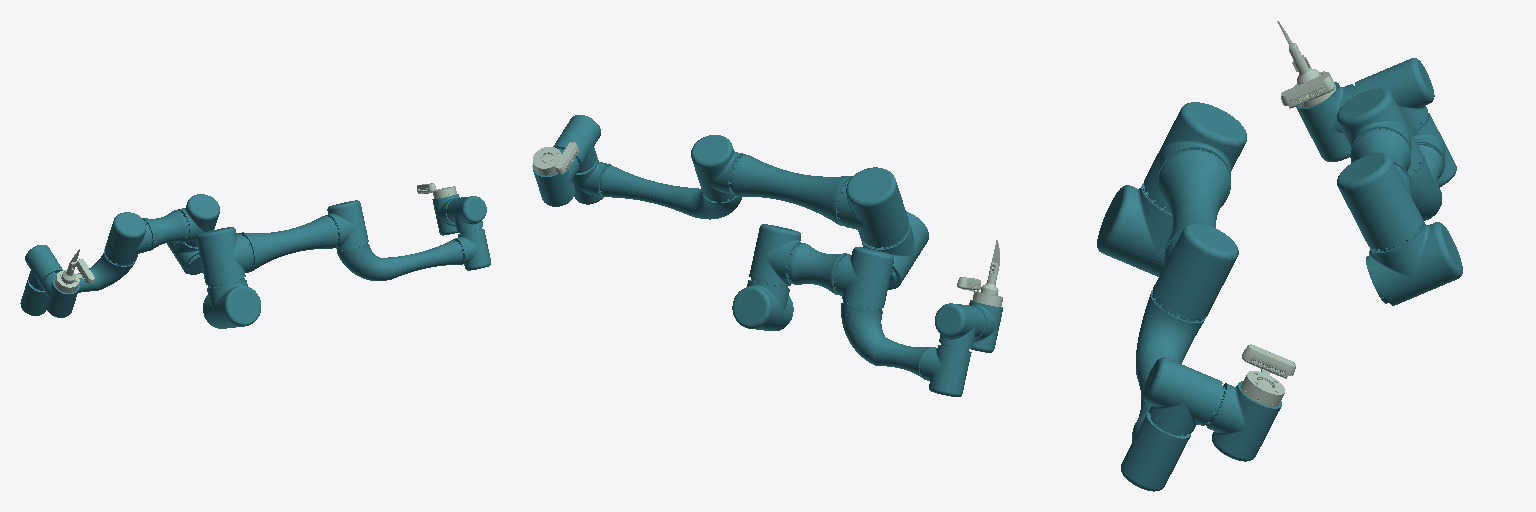
--- Facts derived from the render (not from the file) ---
The picture shows the robot from 3 angles, left to right: view 1: azimuth 30°, elevation 25°; view 2: azimuth 150°, elevation 25°; view 3: azimuth 270°, elevation 25°; orthographic projection.
Robot: eod_robot_description — 23 links, 22 joints (14 revolute, 6 continuous, 2 fixed); root link base_link; default pose: all joints at 0.
Visible links, largest first — view 1: Arm_R2_link, Arm_L2_link, Arm_R3_link, Arm_R1_link, Arm_L3_link, Arm_R4_link, Arm_L4_link, Arm_L5_link, Arm_L1_link, Arm_R5_link; view 2: Arm_R2_link, Arm_L2_link, Arm_L3_link, Arm_R3_link, Arm_L1_link, Arm_L4_link, Arm_R1_link, Arm_R4_link, Arm_R5_link, Arm_R6_link, Arm_L5_link, Arm_L6_link; view 3: Arm_R2_link, Arm_L2_link, Arm_R3_link, Arm_L1_link, Arm_R1_link, Arm_R4_link, Arm_R5_link, Arm_L3_link, Arm_L4_link, Arm_L5_link, Arm_R6_link, Arm_L6_link_add (+1 smaller).
Link boxes in pixels (x1=…): Arm_R2_link: x1=196, y1=200, x2=368, y2=286; Arm_L2_link: x1=105, y1=194, x2=219, y2=264; Arm_R3_link: x1=337, y1=229, x2=490, y2=280; Arm_R1_link: x1=203, y1=278, x2=260, y2=328; Arm_L3_link: x1=20, y1=249, x2=136, y2=315; Arm_R4_link: x1=447, y1=196, x2=486, y2=233; Arm_L4_link: x1=25, y1=245, x2=62, y2=290; Arm_L5_link: x1=42, y1=272, x2=79, y2=317; Arm_L1_link: x1=167, y1=242, x2=202, y2=274; Arm_R5_link: x1=432, y1=194, x2=459, y2=235; Arm_R2_link: x1=691, y1=135, x2=908, y2=246; Arm_L2_link: x1=749, y1=224, x2=893, y2=307; Arm_L3_link: x1=841, y1=300, x2=971, y2=396; Arm_R3_link: x1=572, y1=157, x2=741, y2=219; Arm_L1_link: x1=732, y1=278, x2=793, y2=330; Arm_L4_link: x1=935, y1=303, x2=984, y2=351; Arm_R1_link: x1=861, y1=211, x2=928, y2=289; Arm_R4_link: x1=553, y1=115, x2=600, y2=172; Arm_R5_link: x1=532, y1=148, x2=579, y2=206; Arm_R6_link: x1=533, y1=142, x2=578, y2=175; Arm_L5_link: x1=969, y1=300, x2=1002, y2=352; Arm_L6_link: x1=973, y1=240, x2=1002, y2=306; Arm_R2_link: x1=1144, y1=102, x2=1246, y2=318; Arm_L2_link: x1=1337, y1=88, x2=1422, y2=248; Arm_R3_link: x1=1121, y1=290, x2=1205, y2=491; Arm_L1_link: x1=1366, y1=221, x2=1462, y2=305; Arm_R1_link: x1=1097, y1=183, x2=1172, y2=276; Arm_R4_link: x1=1143, y1=357, x2=1222, y2=435; Arm_R5_link: x1=1206, y1=381, x2=1281, y2=461; Arm_L3_link: x1=1408, y1=113, x2=1456, y2=220; Arm_L4_link: x1=1355, y1=58, x2=1434, y2=131; Arm_L5_link: x1=1296, y1=82, x2=1356, y2=161; Arm_R6_link: x1=1241, y1=344, x2=1295, y2=406; Arm_L6_link_add: x1=1281, y1=71, x2=1335, y2=108.
Size in the robot's own frame: 1.29 by 0.5881 by 0.3285 metres.
Meshes: 18 distinct files referenced, 13 mesh visuals loaded (12 binary STL); not drawn: 10 (reference not matched to a file when rendering).

robot.urdf — eod_robot_description:
<?xml version="1.0" encoding="utf-8"?>
<!-- This URDF was automatically created by SolidWorks to URDF Exporter! Originally created by Stephen Brawner ([email redacted]) 
     Commit Version: 1.5.1-0-g916b5db  Build Version: 1.5.7152.31018
     For more information, please see http://wiki.ros.org/sw_urdf_exporter -->
<robot
  name="eod_robot_description">

  <link
    name="base_link">
    <inertial>
      <origin
        xyz="-0.17885 0.0017998 -0.1738"
        rpy="0 0 0" />
      <mass
        value="107.28" />
      <inertia
        ixx="1.52"
        ixy="0.001111"
        ixz="0.079409"
        iyy="2.3271"
        iyz="-0.00027816"
        izz="3.0127" />
    </inertial>
    <visual>
      <origin
        xyz="0 0 0"
        rpy="0 0 0" />
      <geometry>
        <mesh
          filename="package://eod_robot_description/meshes/base_link.STL" />
      </geometry>
      <material
        name="">
        <color
          rgba="0.0078 0.4686 0.2294 1" />
      </material>
    </visual>
    <collision>
      <origin
        xyz="0 0 0"
        rpy="0 0 0" />
      <geometry>
        <mesh
          filename="package://eod_robot_description/meshes/base_link.STL" />
      </geometry>
    </collision>
  </link>

  <link
    name="Arm_R1_link">
    <inertial>
      <origin
        xyz="-7.5166E-05 0.0061693 0.0029213"
        rpy="0 0 0" />
      <mass
        value="1.942" />
      <inertia
        ixx="0.0057811"
        ixy="-1.8608E-06"
        ixz="1.4367E-07"
        iyy="0.0054342"
        iyz="3.5004E-05"
        izz="0.0038786" />
    </inertial>
    <visual>
      <origin
        xyz="0 0 0"
        rpy="0 0 0" />
      <geometry>
        <mesh
          filename="package://eod_robot_description/meshes/Arm_R1_link.STL" />
      </geometry>
      <material
        name="">
        <color
          rgba="0.2706 0.5373 0.5804 1" />
      </material>
    </visual>
    <collision>
      <origin
        xyz="0 0 0"
        rpy="0 0 0" />
      <geometry>
        <mesh
          filename="package://eod_robot_description/meshes/Arm_R1_link.STL" />
      </geometry>
    </collision>
  </link>

  <joint
    name="Arm_R1_joint"
    type="revolute">
    <origin
      xyz="-0.0499 -0.21024 -0.056576"
      rpy="1.1342 0 0" />
    <parent
      link="base_link" />
    <child
      link="Arm_R1_link" />
    <axis
      xyz="0 0 1" />
    <limit
      lower="-6.28"
      upper="6.28"
      effort="0"
      velocity="0" />
    <safety_controller
      soft_upper="3.14"
      soft_lower="-3.14"
      k_velocity="0" />
  </joint>
  <link
    name="Arm_R2_link">
    <inertial>
      <origin
        xyz="2.6419E-05 0.0018174 0.17875"
        rpy="0 0 0" />
      <mass
        value="5.5188" />
      <inertia
        ixx="0.032467"
        ixy="-1.7285E-07"
        ixz="1.9497E-06"
        iyy="0.029769"
        iyz="1.3101E-05"
        izz="0.01125" />
    </inertial>
    <visual>
      <origin
        xyz="0 0 0"
        rpy="0 0 0" />
      <geometry>
        <mesh
          filename="package://eod_robot_description/meshes/Arm_R2_link.STL" />
      </geometry>
      <material
        name="">
        <color
          rgba="0.2706 0.5373 0.5804 1" />
      </material>
    </visual>
    <collision>
      <origin
        xyz="0 0 0"
        rpy="0 0 0" />
      <geometry>
        <mesh
          filename="package://eod_robot_description/meshes/Arm_R2_link.STL" />
      </geometry>
    </collision>
  </link>

  <joint
    name="Arm_R2_joint"
    type="revolute">
    <origin
      xyz="0 0.145 0.0001"
      rpy="0 1.5708 0" />
    <parent
      link="Arm_R1_link" />
    <child
      link="Arm_R2_link" />
    <axis
      xyz="0 1 0" />
    <limit
      lower="-6.28"
      upper="6.28"
      effort="0"
      velocity="0" />
  </joint>
  <link
    name="Arm_R3_link">
    <inertial>
      <origin
        xyz="-6.6015E-07 0.0099112 0.19645"
        rpy="0 0 0" />
      <mass
        value="2.3067" />
      <inertia
        ixx="0.024366"
        ixy="-7.0932E-08"
        ixz="-9.8729E-08"
        iyy="0.023353"
        iyz="0.0029573"
        izz="0.0031722" />
    </inertial>
    <visual>
      <origin
        xyz="0 0 0"
        rpy="0 0 0" />
      <geometry>
        <mesh
          filename="package://eod_robot_description/meshes/Arm_R3_link.STL" />
      </geometry>
      <material
        name="">
        <color
          rgba="0.2706 0.5373 0.5804 1" />
      </material>
    </visual>
    <collision>
      <origin
        xyz="0 0 0"
        rpy="0 0 0" />
      <geometry>
        <mesh
          filename="package://eod_robot_description/meshes/Arm_R3_link.STL" />
      </geometry>
    </collision>
  </link>

  <joint
    name="Arm_R3_joint"
    type="revolute">
    <origin
      xyz="0 -0.144 0.42469"
      rpy="0 0 0" />
    <parent
      link="Arm_R2_link" />
    <child
      link="Arm_R3_link" />
    <axis
      xyz="0 1 0" />
    <limit
      lower="-6.28"
      upper="6.28"
      effort="0"
      velocity="0" />
  </joint>
  <link
    name="Arm_R4_link">
    <inertial>
      <origin
        xyz="1.5867E-07 0.10315 -0.002932"
        rpy="0 0 0" />
      <mass
        value="0.66592" />
      <inertia
        ixx="0.0010283"
        ixy="2.5683E-09"
        ixz="3.2476E-09"
        iyy="0.00090972"
        iyz="1.3372E-05"
        izz="0.00064819" />
    </inertial>
    <visual>
      <origin
        xyz="0 0 0"
        rpy="0 0 0" />
      <geometry>
        <mesh
          filename="package://eod_robot_description/meshes/Arm_R4_link.STL" />
      </geometry>
      <material
        name="">
        <color
          rgba="0.2706 0.5373 0.5804 1" />
      </material>
    </visual>
    <collision>
      <origin
        xyz="0 0 0"
        rpy="0 0 0" />
      <geometry>
        <mesh
          filename="package://eod_robot_description/meshes/Arm_R4_link.STL" />
      </geometry>
    </collision>
  </link>

  <joint
    name="Arm_R4_joint"
    type="revolute">
    <origin
      xyz="0 0 0.38445"
      rpy="0 1.5708 0" />
    <parent
      link="Arm_R3_link" />
    <child
      link="Arm_R4_link" />
    <axis
      xyz="0 1 0" />
    <limit
      lower="-6.28"
      upper="6.28"
      effort="0"
      velocity="0" />
  </joint>
  <link
    name="Arm_R5_link">
    <inertial>
      <origin
        xyz="-1.3433E-07 -0.0029321 0.10325"
        rpy="0 0 0" />
      <mass
        value="0.66592" />
      <inertia
        ixx="0.0010283"
        ixy="-1.8758E-09"
        ixz="-2.2545E-09"
        iyy="0.00064819"
        iyz="1.3371E-05"
        izz="0.00090972" />
    </inertial>
    <visual>
      <origin
        xyz="0 0 0"
        rpy="0 0 0" />
      <geometry>
        <mesh
          filename="package://eod_robot_description/meshes/Arm_R5_link.STL" />
      </geometry>
      <material
        name="">
        <color
          rgba="0.2706 0.5373 0.5804 1" />
      </material>
    </visual>
    <collision>
      <origin
        xyz="0 0 0"
        rpy="0 0 0" />
      <geometry>
        <mesh
          filename="package://eod_robot_description/meshes/Arm_R5_link.STL" />
      </geometry>
    </collision>
  </link>

  <joint
    name="Arm_R5_joint"
    type="revolute">
    <origin
      xyz="0 0.11 0"
      rpy="0 0 0" />
    <parent
      link="Arm_R4_link" />
    <child
      link="Arm_R5_link" />
    <axis
      xyz="0 0 1" />
    <limit
      lower="-6.28"
      upper="6.28"
      effort="0"
      velocity="0" />
  </joint>
  <link
    name="Arm_R6_link">
    <inertial>
      <origin
        xyz="-0.00033659 0.063349 -0.0018397"
        rpy="0 0 0" />
      <mass
        value="0.040885" />
      <inertia
        ixx="1.7434E-05"
        ixy="-3.1147E-13"
        ixz="-5.083E-07"
        iyy="3.0506E-05"
        iyz="-5.7966E-13"
        izz="1.4748E-05" />
    </inertial>
    <visual>
      <origin
        xyz="0 0 0"
        rpy="0 0 0" />
      <geometry>
        <mesh
          filename="package://eod_robot_description/meshes/Arm_R6_link.STL" />
      </geometry>
      <material
        name="">
        <color
          rgba="0.6980 0.7843 0.7333 1" />
      </material>
    </visual>
    <collision>
      <origin
        xyz="0 0 0"
        rpy="0 0 0" />
      <geometry>
        <mesh
          filename="package://eod_robot_description/meshes/Arm_R6_link.STL" />
      </geometry>
    </collision>
  </link>

  <joint
    name="Arm_R6_joint"
    type="revolute">
    <origin
      xyz="0 0 0.1101"
      rpy="0 -1.74 0" />
    <parent
      link="Arm_R5_link" />
    <child
      link="Arm_R6_link" />
    <axis
      xyz="0 1 0" />
    <limit
      lower="-6.28"
      upper="6.28"
      effort="0"
      velocity="0" />
  </joint>

<!--   gripper     -->
<joint name="gripper_base_joint" type="fixed">
    <parent link="Arm_R6_link"/>
    <child link="gripper_base_link"/>
    <origin rpy="-1.570796325 0.2 0" xyz="0 0.07 0"/>
  </joint>
  <link name="gripper_base_link">
    <visual>
        <geometry>
          <mesh filename="package://eod_robot_description/meshes/base_link_gripper.STL"  scale = "0.001 0.001 0.001"/>
        </geometry>
      <material
        name="">
        <color
          rgba="0.6980 0.7843 0.7333 1" />
      </material>
    </visual>
    <collision>
        <geometry>
            <mesh filename="package://eod_robot_description/meshes/base_link_gripper.STL"  scale = "0.001 0.001 0.001"/>
        </geometry>
    </collision>
        <inertial>
          <mass value="0.83416" />
            <origin xyz="0.0 0.0 0.0" />
              <inertia ixx = "0.0013016" ixy = "-6.9374e-07" ixz = "5.9848e-07"
                       iyx = "0.000000" iyy = "0.00049972" iyz = "2.0244E-07"
                       izx = "0.000000" izy = "0.000000" izz = "0.001498" />
       </inertial>
    </link>

  <joint name="gripper_finger1_joint" type="revolute">
    <parent link="gripper_base_link"/>
    <child link="gripper_finger1_knuckle_link"/>
      <axis xyz="0 -1 0"/>
      <origin rpy="0.0 0.0 3.14" xyz="-0.016 0 0.10586"/>
      <limit lower="0.0" upper="0.6524" velocity="2.0" effort="1000"/>
  </joint>
  <joint name="gripper_finger2_joint" type="revolute">
    <parent link="gripper_base_link"/>
    <child link="gripper_finger2_knuckle_link"/>
    <axis xyz="0 -1 0"/>
    <origin rpy="0.0 0.0 0.0" xyz="0.016  0 0.10586 "/>
    <limit lower="-3.14" upper="3.14" velocity="100.0" effort="1000"/>
    <mimic joint="gripper_finger1_joint"/>
  </joint>
  <link name="gripper_finger1_knuckle_link">
            <visual>
                <geometry>
                    <mesh filename="package://eod_robot_description/meshes/crank_Link.STL"  scale = "0.001 0.001 0.001"/>
                </geometry>
                <material
                    name="">
                <color
                    rgba="0.6980 0.7843 0.7333 1" />
                </material>
            </visual>
            <collision>
                <geometry>
                    <mesh filename="package://eod_robot_description/meshes/crank_Link.STL"  scale = "0.001 0.001 0.001"/>
                </geometry>
            </collision>
            <inertial>
                <mass value="0.011111" />
                <origin xyz="0.0 0.0 0.0" />
                <inertia ixx = "3.88172e-06" ixy = "-2.29456e-13" ixz = "8.33e-07"
                         iyx = "0.000000" iyy = "1.92174e-06" iyz = "2.04435e-13"
                         izx = "0.000000" izy = "0.000000" izz = "4.32374e-06" />
            </inertial>
        </link>

  <link name="gripper_finger2_knuckle_link">
            <visual>
                <geometry>
                    <mesh filename="package://eod_robot_description/meshes/crank_Link.STL"  scale = "0.001 0.001 0.001"/>
                </geometry>
                <material
                    name="">
                <color
                    rgba="0.6980 0.7843 0.7333 1" />
                </material>
            </visual>
            <collision>
                <geometry>
                    <mesh filename="package://eod_robot_description/meshes/crank_Link.STL"  scale = "0.001 0.001 0.001"/>
                </geometry>
            </collision>
            <inertial>
                <mass value="0.011111" />
                <origin xyz="0.0 0.0 0.0" />
                <inertia ixx = "3.88172e-06" ixy = "-2.29456e-13" ixz = "8.33e-07"
                         iyx = "0.000000" iyy = "1.92174e-06" iyz = "2.04435e-13"
                         izx = "0.000000" izy = "0.000000" izz = "4.32374e-06" />
            </inertial>
        </link>

        <joint name="gripper_finger1_finger_joint" type="continuous">
            <parent link="gripper_finger1_knuckle_link"/>
            <child link="gripper_finger1_finger_link"/>
            <axis xyz="0 -1 0"/>
            <origin xyz="0.0292080077784 0.0 -0.0227132622407" rpy="0 0 0" />
            <limit lower="-3.14" upper="3.14" velocity="100.0" effort="0.1"/>
            <mimic joint="gripper_finger1_joint" multiplier="0.4563942" offset="0"/>
        </joint>

        <joint name="gripper_finger2_finger_joint" type="continuous">
            <parent link="gripper_finger2_knuckle_link"/>
            <child link="gripper_finger2_finger_link"/>
            <axis xyz="0 -1 0"/>
            <origin xyz="0.0292080077784 0.0 -0.0227132622407" rpy="0 0 0" />
            <limit lower="-3.14" upper="3.14" velocity="100.0" effort="0.1"/>
            <mimic joint="gripper_finger1_joint" multiplier="0.4563942" offset="0"/>
        </joint>
  <link name="gripper_finger1_finger_link">
            <visual>
                <geometry>
                    <mesh filename="package://eod_robot_description/meshes/rod_Link.STL"  scale = "0.001 0.001 0.001"/>
                </geometry>
                <material
                    name="">
                <color
                    rgba="0.6980 0.7843 0.7333 1" />
                </material>
            </visual>
            <collision>
                <geometry>
                    <mesh filename="package://eod_robot_description/meshes/rod_Link.STL"  scale = "0.001 0.001 0.001"/>
                </geometry>
            </collision>
            <inertial>
                <mass value="0.0222871" />
                <origin xyz="0.0 0.0 0.0" />
                <inertia ixx = "8.72836e-06" ixy = "7.0843e-15" ixz = "-2.18833e-06"
                         iyx = "-0.000002" iyy = "7.26157e-06" iyz = "7.6579e-15"
                         izx = "0.000000" izy = "0.000000" izz = "3.3425e-06" />
            </inertial>
        </link>

  <link name="gripper_finger2_finger_link">
          <visual>
                <geometry>
                    <mesh filename="package://eod_robot_description/meshes/rod_Link.STL"  scale = "0.001 0.001 0.001"/>
                </geometry>
                <material
                    name="">
                <color
                    rgba="0.6980 0.7843 0.7333 1" />
                </material>
            </visual>
            <collision>
                <geometry>
                    <mesh filename="package://eod_robot_description/meshes/rod_Link.STL"  scale = "0.001 0.001 0.001"/>
                </geometry>
            </collision>
            <inertial>
                <mass value="0.0222871" />
                <origin xyz="0.0 0.0 0.0" />
                <inertia ixx = "8.72836e-06" ixy = "7.0843e-15" ixz = "-2.18833e-06"
                         iyx = "-0.000002" iyy = "7.26157e-06" iyz = "7.6579e-15"
                         izx = "0.000000" izy = "0.000000" izz = "3.3425e-06" />
            </inertial>
        </link>

  <joint name="gripper_finger1_inner_knuckle_joint" type="continuous">
    <parent link="gripper_base_link"/>
    <child link="gripper_finger1_inner_knuckle_link"/>
            <axis xyz="0 -1 0"/>
            <origin rpy="0.0 0.0 3.14" xyz="-0.016 0 0.10586"/>
            <limit lower="-3.14" upper="3.14" velocity="100.0" effort="0.1"/>
            <mimic joint="gripper_finger1_joint" multiplier="1.49462955"  offset="0"/>
 </joint>
  <joint name="gripper_finger2_inner_knuckle_joint" type="continuous">
    <parent link="gripper_base_link"/>
    <child link="gripper_finger2_inner_knuckle_link"/>
            <axis xyz="0 -1 0"/>
            <origin rpy="0.0 0.0 0.0" xyz="0.016 0 0.10586"/>
            <limit lower="-3.14" upper="3.14" velocity="100.0" effort="0.1"/>
            <mimic joint="gripper_finger1_joint" multiplier="1.49462955"  offset="0"/>
  </joint>
     <link name="gripper_finger1_inner_knuckle_link">
            <visual>
                <geometry>
                    <mesh filename="package://eod_robot_description/meshes/proximal_phalanx_Link.STL"  scale = "0.001 0.001 0.001"/>
                </geometry>
                <material
                    name="">
                <color
                    rgba="0.6980 0.7843 0.7333 1" />
                </material>
            </visual>
            <collision>
                <geometry>
                    <mesh filename="package://eod_robot_description/meshes/proximal_phalanx_Link.STL"  scale = "0.001 0.001 0.001"/>
                </geometry>
            </collision>
            <inertial>
                <mass value="0.0318004" />
                <origin xyz="0.0 0.0 0.0" />
                <inertia ixx = "1.39848e-05" ixy = "-9.54763e-15" ixz = "-5.01422e-06"
                         iyx = "0.000000" iyy = "1.04943e-05" iyz = "8.94585e-16"
                         izx = "0.000000" izy = "0.000000" izz = "1.36183e-05" />
            </inertial>
      </link>

<link name="gripper_finger2_inner_knuckle_link">
            <visual>
                <geometry>
                    <mesh filename="package://eod_robot_description/meshes/proximal_phalanx_Link.STL"  scale = "0.001 0.001 0.001"/>
                </geometry>
                <material
                    name="">
                <color
                    rgba="0.6980 0.7843 0.7333 1" />
                </material>
            </visual>
            <collision>
                <geometry>
                    <mesh filename="package://eod_robot_description/meshes/proximal_phalanx_Link.STL"  scale = "0.001 0.001 0.001"/>
                </geometry>
            </collision>
            <inertial>
                <mass value="0.0318004" />
                <origin xyz="0.0 0.0 0.0" />
                <inertia ixx = "1.39848e-05" ixy = "-9.54763e-15" ixz = "-5.01422e-06"
                         iyx = "0.000000" iyy = "1.04943e-05" iyz = "8.94585e-16"
                         izx = "0.000000" izy = "0.000000" izz = "1.36183e-05" />
            </inertial>
        </link>

<joint name="gripper_finger1_finger_tip_joint" type="continuous">
    <parent link="gripper_finger1_inner_knuckle_link"/>
    <child link="gripper_finger1_finger_tip_link"/>
            <axis xyz="0 1 0"/>
            <origin xyz="0.0394969463769 0.0 0.0382752038125 " rpy="0.0 0.0 0.0"/>
            <limit lower="-3.14" upper="3.14" velocity="100.0" effort="0.1"/>
            <mimic joint="gripper_finger1_joint" multiplier="1.49462955"/>
        </joint>
  <joint name="gripper_finger2_finger_tip_joint" type="continuous">
    <parent link="gripper_finger2_inner_knuckle_link"/>
    <child link="gripper_finger2_finger_tip_link"/>
            <axis xyz="0 1 0"/>
            <origin rpy="0.0 0.0 0.0" xyz="0.0394969463769  0.0 0.0382752038125  "/>
            <limit lower="-3.14" upper="3.14" velocity="100.0" effort="0.1"/>
            <mimic joint="gripper_finger1_joint" multiplier="1.49462955"/>
  </joint>
  <link name="gripper_finger1_finger_tip_link">
            <visual>
                <geometry>
                    <mesh filename="package://eod_robot_description/meshes/distal_phalanx_Link.STL"  scale = "0.001 0.001 0.001"/>
                </geometry>
               <material
                    name="">
                <color
                    rgba="0.6980 0.7843 0.7333 1" />
                </material>
            </visual>
            <collision>
                <geometry>
                    <mesh filename="package://eod_robot_description/meshes/distal_phalanx_Link.STL"  scale = "0.001 0.001 0.001"/>
                </geometry>
            </collision>
            <inertial>
                <mass value="0.0124305" />
                <origin xyz="0.0 0.0 0.0" />
                <inertia ixx = "2.84217e-06" ixy = "-2.48048e-15" ixz = "8.24539e-07"
                         iyx = "0.000000" iyy = "3.03961e-06" iyz = "2.16427e-13"
                         izx = "0.000000" izy = "0.000000" izz = "1.11815e-06" />
            </inertial>
        </link> 

  <link name="gripper_finger2_finger_tip_link">
            <visual>
                <geometry>
                    <mesh filename="package://eod_robot_description/meshes/distal_phalanx_Link.STL"  scale = "0.001 0.001 0.001"/>
                </geometry>
                <material
                    name="">
                <color
                    rgba="0.6980 0.7843 0.7333 1" />
                </material>
            </visual>
            <collision>
                <geometry>
                    <mesh filename="package://eod_robot_description/meshes/distal_phalanx_Link.STL"  scale = "0.001 0.001 0.001"/>
                </geometry>
            </collision>
            <inertial>
                <mass value="0.0124305" />
                <origin xyz="0.0 0.0 0.0" />
                <inertia ixx = "2.84217e-06" ixy = "-2.48048e-15" ixz = "8.24539e-07"
                         iyx = "0.000000" iyy = "3.03961e-06" iyz = "2.16427e-13"
                         izx = "0.000000" izy = "0.000000" izz = "1.11815e-06" />
            </inertial>
        </link> 

  <link
    name="Arm_L1_link">
    <inertial>
      <origin
        xyz="-2.4273E-09 0.0050107 0.003883"
        rpy="0 0 0" />
      <mass
        value="1.1218" />
      <inertia
        ixx="0.0023329"
        ixy="-2.1019E-09"
        ixz="-1.0212E-09"
        iyy="0.0021983"
        iyz="2.1828E-05"
        izz="0.0015374" />
    </inertial>
    <visual>
      <origin
        xyz="0 0 0"
        rpy="0 0 0" />
      <geometry>
        <mesh
          filename="package://eod_robot_description/meshes/Arm_L1_link.STL" />
      </geometry>
      <material
        name="">
        <color
          rgba="0.2706 0.5373 0.5804 1" />
      </material>
    </visual>
    <collision>
      <origin
        xyz="0 0 0"
        rpy="0 0 0" />
      <geometry>
        <mesh
          filename="package://eod_robot_description/meshes/Arm_L1_link.STL" />
      </geometry>
    </collision>
  </link>

  <joint
    name="Arm_L1_joint"
    type="revolute">
    <origin
      xyz="0.05 0.20099 -0.060889"
      rpy="1.1342 0 -3.1416" />
    <parent
      link="base_link" />
    <child
      link="Arm_L1_link" />
    <axis
      xyz="0 0 1" />
    <limit
      lower="-6.28"
      upper="6.28"
      effort="0"
      velocity="0" />
  </joint>
  <link
    name="Arm_L2_link">
    <inertial>
      <origin
        xyz="-1.0801E-07 0.0029806 0.12303"
        rpy="0 0 0" />
      <mass
        value="2.9228" />
      <inertia
        ixx="0.0062307"
        ixy="-8.6863E-09"
        ixz="5.4046E-09"
        iyy="0.0046397"
        iyz="9.0159E-10"
        izz="0.0053184" />
    </inertial>
    <visual>
      <origin
        xyz="0 0 0"
        rpy="0 0 0" />
      <geometry>
        <mesh
          filename="package://eod_robot_description/meshes/Arm_L2_link.STL" />
      </geometry>
      <material
        name="">
        <color
          rgba="0.2706 0.5373 0.5804 1" />
      </material>
    </visual>
    <collision>
      <origin
        xyz="0 0 0"
        rpy="0 0 0" />
      <geometry>
        <mesh
          filename="package://eod_robot_description/meshes/Arm_L2_link.STL" />
      </geometry>
    </collision>
  </link>

  <joint
    name="Arm_L2_joint"
    type="revolute">
    <origin
      xyz="0 0.1196 0"
      rpy="0 1.5708 0" />
    <parent
      link="Arm_L1_link" />
    <child
      link="Arm_L2_link" />
    <axis
      xyz="0 1 0" />
    <limit
      lower="-6.28"
      upper="6.28"
      effort="0"
      velocity="0" />
  </joint>
  <link
    name="Arm_L3_link">
    <inertial>
      <origin
        xyz="-1.2556E-07 0.011438 0.1421"
        rpy="0 0 0" />
      <mass
        value="1.5455" />
      <inertia
        ixx="0.0061651"
        ixy="-2.5101E-09"
        ixz="-9.3994E-09"
        iyy="0.0052977"
        iyz="0.0011604"
        izz="0.0023808" />
    </inertial>
    <visual>
      <origin
        xyz="0 0 0"
        rpy="0 0 0" />
      <geometry>
        <mesh
          filename="package://eod_robot_description/meshes/Arm_L3_link.STL" />
      </geometry>
      <material
        name="">
        <color
          rgba="0.2706 0.5373 0.5804 1" />
      </material>
    </visual>
    <collision>
      <origin
        xyz="0 0 0"
        rpy="0 0 0" />
      <geometry>
        <mesh
          filename="package://eod_robot_description/meshes/Arm_L3_link.STL" />
      </geometry>
    </collision>
  </link>

  <joint
    name="Arm_L3_joint"
    type="revolute">
    <origin
      xyz="0 -0.15098 0.24594"
      rpy="0 0 0" />
    <parent
      link="Arm_L2_link" />
    <child
      link="Arm_L3_link" />
    <axis
      xyz="0 1 0" />
    <limit
      lower="-6.28"
      upper="6.28"
      effort="0"
      velocity="0" />
  </joint>
  <link
    name="Arm_L4_link">
    <inertial>
      <origin
        xyz="1.5867E-07 0.10315 -0.002932"
        rpy="0 0 0" />
      <mass
        value="0.66592" />
      <inertia
        ixx="0.0010283"
        ixy="2.5683E-09"
        ixz="3.2476E-09"
        iyy="0.00090972"
        iyz="1.3372E-05"
        izz="0.00064819" />
    </inertial>
    <visual>
      <origin
        xyz="0 0 0"
        rpy="0 0 0" />
      <geometry>
        <mesh
          filename="package://eod_robot_description/meshes/Arm_L4_link.STL" />
      </geometry>
      <material
        name="">
        <color
          rgba="0.2706 0.5373 0.5804 1" />
      </material>
    </visual>
    <collision>
      <origin
        xyz="0 0 0"
        rpy="0 0 0" />
      <geometry>
        <mesh
          filename="package://eod_robot_description/meshes/Arm_L4_link.STL" />
      </geometry>
    </collision>
  </link>

  <joint
    name="Arm_L4_joint"
    type="revolute">
    <origin
      xyz="0 0 0.25532"
      rpy="0 1.5708 0" />
    <parent
      link="Arm_L3_link" />
    <child
      link="Arm_L4_link" />
    <axis
      xyz="0 1 0" />
    <limit
      lower="-6.28"
      upper="6.28"
      effort="0"
      velocity="0" />
  </joint>
  <link
    name="Arm_L5_link">
    <inertial>
      <origin
        xyz="-1.3433E-07 -0.0029321 0.10325"
        rpy="0 0 0" />
      <mass
        value="0.66592" />
      <inertia
        ixx="0.0010283"
        ixy="-1.8758E-09"
        ixz="-2.2545E-09"
        iyy="0.00064819"
        iyz="1.3371E-05"
        izz="0.00090972" />
    </inertial>
    <visual>
      <origin
        xyz="0 0 0"
        rpy="0 0 0" />
      <geometry>
        <mesh
          filename="package://eod_robot_description/meshes/Arm_L5_link.STL" />
      </geometry>
      <material
        name="">
        <color
          rgba="0.2706 0.5373 0.5804 1" />
      </material>
    </visual>
    <collision>
      <origin
        xyz="0 0 0"
        rpy="0 0 0" />
      <geometry>
        <mesh
          filename="package://eod_robot_description/meshes/Arm_L5_link.STL" />
      </geometry>
    </collision>
  </link>

  <joint
    name="Arm_L5_joint"
    type="revolute">
    <origin
      xyz="0 0.11 0"
      rpy="0 0 0" />
    <parent
      link="Arm_L4_link" />
    <child
      link="Arm_L5_link" />
    <axis
      xyz="0 0 1" />
    <limit
      lower="-6.28"
      upper="6.28"
      effort="0"
      velocity="0" />
  </joint>
  <link
    name="Arm_L6_link">
    <inertial>
      <origin
        xyz="0.00023435 0.092454 0.00011923"
        rpy="0 0 0" />
      <mass
        value="0.088885" />
      <inertia
        ixx="3.3913E-05"
        ixy="-5.1497E-07"
        ixz="-1.8352E-07"
        iyy="2.4791E-05"
        iyz="-2.6787E-07"
        izz="3.4453E-05" />
    </inertial>
    <visual>
      <origin
        xyz="0 0 0"
        rpy="0 0 0" />
      <geometry>
        <mesh
          filename="package://eod_robot_description/meshes/Arm_L6_link.STL" />
      </geometry>
      <material
        name="">
        <color
          rgba="0.6980 0.7843 0.7333 1" />
      </material>
    </visual>
    <collision>
      <origin
        xyz="0 0 0"
        rpy="0 0 0" />
      <geometry>
        <mesh
          filename="package://eod_robot_description/meshes/Arm_L6_link.STL" />
      </geometry>
    </collision>
  </link>

  <joint
    name="Arm_L6_joint"
    type="revolute">
    <origin
      xyz="0 0 0.1101"
      rpy="0 0.4363 0" />
    <parent
      link="Arm_L5_link" />
    <child
      link="Arm_L6_link" />
    <axis
      xyz="0 1 0" />
    <limit
      lower="-6.28"
      upper="6.28"
      effort="0"
      velocity="0" />
  </joint>
  <link
    name="Arm_L6_link_add">
    <inertial>
      <origin
        xyz="-0.00033659 0.063349 -0.0018397"
        rpy="0 0 0" />
      <mass
        value="0.040885" />
      <inertia
        ixx="1.7434E-05"
        ixy="-3.1147E-13"
        ixz="-5.083E-07"
        iyy="3.0506E-05"
        iyz="-5.7966E-13"
        izz="1.4748E-05" />
    </inertial>
    <visual>
      <origin
        xyz="0 0 0"
        rpy="0 0 0" />
      <geometry>
        <mesh
          filename="package://eod_robot_description/meshes/Arm_R6_link.STL" />
      </geometry>
      <material
        name="">
        <color
          rgba="0.6980 0.7843 0.7333 1" />
      </material>
    </visual>
    <collision>
      <origin
        xyz="0 0 0"
        rpy="0 0 0" />
      <geometry>
        <mesh
          filename="package://eod_robot_description/meshes/Arm_R6_link.STL" />
      </geometry>
    </collision>
  </link>
    <joint
    name="Arm_L6_joint_add"
    type="fixed">
    <origin
      xyz="0 0 0"
      rpy="0 -2.1991 0" />
    <parent
      link="Arm_L6_link" />
    <child
      link="Arm_L6_link_add" />
    <axis
      xyz="0 1 0" />
  </joint>


   <gazebo>
    <plugin filename="libgazebo_ros_control.so" name="gazebo_ros_control">
      <robotNamespace>/</robotNamespace>
    </plugin>
  </gazebo>

  <transmission name="Arm_R1_trans">
    <type>transmission_interface/SimpleTransmission</type>
    <joint name="Arm_R1_joint">
      <hardwareInterface>hardware_interface/PositionJointInterface</hardwareInterface>
    </joint>
    <actuator name="Arm_R1_motor">
      <mechanicalReduction>1</mechanicalReduction>
      <hardwareInterface>hardware_interface/PositionJointInterface</hardwareInterface>
    </actuator>
  </transmission>

  <transmission name="Arm_R2_trans">
    <type>transmission_interface/SimpleTransmission</type>
    <joint name="Arm_R2_joint">
      <hardwareInterface>hardware_interface/PositionJointInterface</hardwareInterface>
    </joint>
    <actuator name="Arm_R2_motor">
      <mechanicalReduction>1</mechanicalReduction>
      <hardwareInterface>hardware_interface/PositionJointInterface</hardwareInterface>
    </actuator>
  </transmission>

  <transmission name="Arm_R3_trans">
    <type>transmission_interface/SimpleTransmission</type>
    <joint name="Arm_R3_joint">
      <hardwareInterface>hardware_interface/PositionJointInterface</hardwareInterface>
    </joint>
    <actuator name="Arm_R3_motor">
      <mechanicalReduction>1</mechanicalReduction>
      <hardwareInterface>hardware_interface/PositionJointInterface</hardwareInterface>
    </actuator>
  </transmission>

  <transmission name="Arm_R4_trans">
    <type>transmission_interface/SimpleTransmission</type>
    <joint name="Arm_R4_joint">
      <hardwareInterface>hardware_interface/PositionJointInterface</hardwareInterface>
    </joint>
    <actuator name="Arm_R4_motor">
      <mechanicalReduction>1</mechanicalReduction>
      <hardwareInterface>hardware_interface/PositionJointInterface</hardwareInterface>
    </actuator>
  </transmission>

  <transmission name="Arm_R5_trans">
    <type>transmission_interface/SimpleTransmission</type>
    <joint name="Arm_R5_joint">
      <hardwareInterface>hardware_interface/PositionJointInterface</hardwareInterface>
    </joint>
    <actuator name="Arm_R5_motor">
      <mechanicalReduction>1</mechanicalReduction>
      <hardwareInterface>hardware_interface/PositionJointInterface</hardwareInterface>
    </actuator>
  </transmission>

  <transmission name="Arm_R6_trans">
    <type>transmission_interface/SimpleTransmission</type>
    <joint name="Arm_R6_joint">
      <hardwareInterface>hardware_interface/PositionJointInterface</hardwareInterface>
    </joint>
    <actuator name="Arm_R6_motor">
      <mechanicalReduction>1</mechanicalReduction>
      <hardwareInterface>hardware_interface/PositionJointInterface</hardwareInterface>
    </actuator>
  </transmission>

  <transmission name="gripper_finger1_trans">
    <type>transmission_interface/SimpleTransmission</type>
    <joint name="gripper_finger1_joint">
      <hardwareInterface>hardware_interface/PositionJointInterface</hardwareInterface>
    </joint>
    <actuator name="gripper_finger1_motor">
      <mechanicalReduction>1</mechanicalReduction>
      <hardwareInterface>hardware_interface/PositionJointInterface</hardwareInterface>
    </actuator>
  </transmission>

  <transmission name="Arm_L1_trans">
    <type>transmission_interface/SimpleTransmission</type>
    <joint name="Arm_L1_joint">
      <hardwareInterface>hardware_interface/PositionJointInterface</hardwareInterface>
    </joint>
    <actuator name="Arm_L1_motor">
      <mechanicalReduction>1</mechanicalReduction>
      <hardwareInterface>hardware_interface/PositionJointInterface</hardwareInterface>
    </actuator>
  </transmission>

  <transmission name="Arm_L2_trans">
    <type>transmission_interface/SimpleTransmission</type>
    <joint name="Arm_L2_joint">
      <hardwareInterface>hardware_interface/PositionJointInterface</hardwareInterface>
    </joint>
    <actuator name="Arm_L2_motor">
      <mechanicalReduction>1</mechanicalReduction>
      <hardwareInterface>hardware_interface/PositionJointInterface</hardwareInterface>
    </actuator>
  </transmission>

  <transmission name="Arm_L3_trans">
    <type>transmission_interface/SimpleTransmission</type>
    <joint name="Arm_L3_joint">
      <hardwareInterface>hardware_interface/PositionJointInterface</hardwareInterface>
    </joint>
    <actuator name="Arm_L3_motor">
      <mechanicalReduction>1</mechanicalReduction>
      <hardwareInterface>hardware_interface/PositionJointInterface</hardwareInterface>
    </actuator>
  </transmission>

  <transmission name="Arm_L4_trans">
    <type>transmission_interface/SimpleTransmission</type>
    <joint name="Arm_L4_joint">
      <hardwareInterface>hardware_interface/PositionJointInterface</hardwareInterface>
    </joint>
    <actuator name="Arm_L4_motor">
      <mechanicalReduction>1</mechanicalReduction>
      <hardwareInterface>hardware_interface/PositionJointInterface</hardwareInterface>
    </actuator>
  </transmission>

  <transmission name="Arm_L5_trans">
    <type>transmission_interface/SimpleTransmission</type>
    <joint name="Arm_L5_joint">
      <hardwareInterface>hardware_interface/PositionJointInterface</hardwareInterface>
    </joint>
    <actuator name="Arm_L5_motor">
      <mechanicalReduction>1</mechanicalReduction>
      <hardwareInterface>hardware_interface/PositionJointInterface</hardwareInterface>
    </actuator>
  </transmission>

  <transmission name="Arm_L6_trans">
    <type>transmission_interface/SimpleTransmission</type>
    <joint name="Arm_L6_joint">
      <hardwareInterface>hardware_interface/PositionJointInterface</hardwareInterface>
    </joint>
    <actuator name="Arm_L6_motor">
      <mechanicalReduction>1</mechanicalReduction>
      <hardwareInterface>hardware_interface/PositionJointInterface</hardwareInterface>
    </actuator>
  </transmission>

  <gazebo>
    <plugin filename="libroboticsgroup_gazebo_mimic_joint_plugin.so" name="mimic_dh_robotics_ag95_1">
      <joint>gripper_finger1_joint</joint>
      <mimicJoint>gripper_finger2_joint</mimicJoint>
      <multiplier>1.0</multiplier>
      <offset>0.0</offset>
    </plugin>
    <plugin filename="libroboticsgroup_gazebo_mimic_joint_plugin.so" name="mimic_dh_robotics_ag95_2">
      <joint>gripper_finger1_joint</joint>
      <mimicJoint>gripper_finger2_inner_knuckle_joint</mimicJoint>
      <multiplier>1.49462955</multiplier>
      <offset>0.0</offset>
    </plugin>
    <plugin filename="libroboticsgroup_gazebo_mimic_joint_plugin.so" name="mimic_dh_robotics_ag95_3">
      <joint>gripper_finger1_joint</joint>
      <mimicJoint>gripper_finger1_inner_knuckle_joint</mimicJoint>
      <multiplier>1.49462955</multiplier>
      <offset>0.0</offset>
    </plugin>
    <plugin filename="libroboticsgroup_gazebo_mimic_joint_plugin.so" name="mimic_dh_robotics_ag95_4">
      <joint>gripper_finger1_joint</joint>
      <mimicJoint>gripper_finger1_finger_tip_joint</mimicJoint>
      <multiplier>1.49462955</multiplier>          
      <offset>0.0</offset>
    </plugin>
    <plugin filename="libroboticsgroup_gazebo_mimic_joint_plugin.so" name="mimic_dh_robotics_ag95_5">
      <joint>gripper_finger1_joint</joint>
      <mimicJoint>gripper_finger2_finger_tip_joint</mimicJoint>
      <multiplier>1.49462955</multiplier>          
      <offset>0.0</offset>
    </plugin>
    <plugin filename="libroboticsgroup_gazebo_mimic_joint_plugin.so" name="mimic_dh_robotics_ag95_6">
      <joint>gripper_finger1_joint</joint>
      <mimicJoint>gripper_finger1_finger_joint</mimicJoint>
      <multiplier>0.4563942</multiplier>
      <offset>0.0</offset>
    </plugin>
    <plugin filename="libroboticsgroup_gazebo_mimic_joint_plugin.so" name="mimic_dh_robotics_ag95_7">
      <joint>gripper_finger1_joint</joint>
      <mimicJoint>gripper_finger2_finger_joint</mimicJoint>
      <multiplier>0.4563942</multiplier>
      <offset>0.0</offset>
    </plugin>
  </gazebo>

  <gazebo reference="base_link">
    <implicitSpringDamper>1</implicitSpringDamper>
    <mu1>100000</mu1>
    <mu2>100000</mu2>
    <kp>100000000.0</kp>
    <kd>1.0</kd>
  </gazebo>

    <gazebo reference="Arm_R1_link">
    <implicitSpringDamper>1</implicitSpringDamper>
    <mu1>100000</mu1>
    <mu2>100000</mu2>
    <kp>100000000.0</kp>
    <kd>1.0</kd>
  </gazebo>

  <gazebo reference="Arm_R2_link">
    <implicitSpringDamper>1</implicitSpringDamper>
    <mu1>100000</mu1>
    <mu2>100000</mu2>
    <kp>100000000.0</kp>
    <kd>1.0</kd>
  </gazebo>

  <gazebo reference="Arm_R3_link">
    <implicitSpringDamper>1</implicitSpringDamper>
    <mu1>100000</mu1>
    <mu2>100000</mu2>
    <kp>100000000.0</kp>
    <kd>1.0</kd>
  </gazebo>

  <gazebo reference="Arm_R4_link">
    <implicitSpringDamper>1</implicitSpringDamper>
    <mu1>100000</mu1>
    <mu2>100000</mu2>
    <kp>100000000.0</kp>
    <kd>1.0</kd>
  </gazebo>

  <gazebo reference="Arm_R5_link">
    <implicitSpringDamper>1</implicitSpringDamper>
    <mu1>100000</mu1>
    <mu2>100000</mu2>
    <kp>100000000.0</kp>
    <kd>1.0</kd>
  </gazebo>

  <gazebo reference="Arm_R6_link">
    <implicitSpringDamper>1</implicitSpringDamper>
    <mu1>100000</mu1>
    <mu2>100000</mu2>
    <kp>100000000.0</kp>
    <kd>1.0</kd>
  </gazebo>

  <gazebo reference="gripper_base_link">
    <implicitSpringDamper>1</implicitSpringDamper>
    <mu1>100000</mu1>
    <mu2>100000</mu2>
    <kp>100000000.0</kp>
    <kd>1.0</kd>
  </gazebo>

  <gazebo reference="gripper_finger1_knuckle_link">
    <implicitSpringDamper>1</implicitSpringDamper>
    <mu1>100000</mu1>
    <mu2>100000</mu2>
    <kp>100000000.0</kp>
    <kd>1.0</kd>
  </gazebo>

  <gazebo reference="gripper_finger2_knuckle_link">
    <implicitSpringDamper>1</implicitSpringDamper>
    <mu1>100000</mu1>
    <mu2>100000</mu2>
    <kp>100000000.0</kp>
    <kd>1.0</kd>
  </gazebo>

  <gazebo reference="gripper_finger1_finger_link">
    <implicitSpringDamper>1</implicitSpringDamper>
    <mu1>100000</mu1>
    <mu2>100000</mu2>
    <kp>100000000.0</kp>
    <kd>1.0</kd>
  </gazebo>

  <gazebo reference="gripper_finger2_finger_link">
    <implicitSpringDamper>1</implicitSpringDamper>
    <mu1>100000</mu1>
    <mu2>100000</mu2>
    <kp>100000000.0</kp>
    <kd>1.0</kd>
  </gazebo>

  <gazebo reference="gripper_finger1_inner_knuckle_link">
    <implicitSpringDamper>1</implicitSpringDamper>
    <mu1>100000</mu1>
    <mu2>100000</mu2>
    <kp>100000000.0</kp>
    <kd>1.0</kd>
  </gazebo>

   <gazebo reference="gripper_finger2_inner_knuckle_link">
    <implicitSpringDamper>1</implicitSpringDamper>
    <mu1>100000</mu1>
    <mu2>100000</mu2>
    <kp>100000000.0</kp>
    <kd>1.0</kd>
  </gazebo>

  <gazebo reference="gripper_finger1_finger_tip_link">
    <implicitSpringDamper>1</implicitSpringDamper>
    <mu1>100000</mu1>
    <mu2>100000</mu2>
    <kp>100000000.0</kp>
    <kd>1.0</kd>
  </gazebo>

  <gazebo reference="gripper_finger2_finger_tip_link">
    <implicitSpringDamper>1</implicitSpringDamper>
    <mu1>100000</mu1>
    <mu2>100000</mu2>
    <kp>100000000.0</kp>
    <kd>1.0</kd>
  </gazebo>

  <gazebo reference="Arm_L1_link">
    <implicitSpringDamper>1</implicitSpringDamper>
    <mu1>100000</mu1>
    <mu2>100000</mu2>
    <kp>100000000.0</kp>
    <kd>1.0</kd>
  </gazebo>

  <gazebo reference="Arm_L2_link">
    <implicitSpringDamper>1</implicitSpringDamper>
    <mu1>100000</mu1>
    <mu2>100000</mu2>
    <kp>100000000.0</kp>
    <kd>1.0</kd>
  </gazebo>

  <gazebo reference="Arm_L3_link">
    <implicitSpringDamper>1</implicitSpringDamper>
    <mu1>100000</mu1>
    <mu2>100000</mu2>
    <kp>100000000.0</kp>
    <kd>1.0</kd>
  </gazebo>

  <gazebo reference="Arm_L4_link">
    <implicitSpringDamper>1</implicitSpringDamper>
    <mu1>100000</mu1>
    <mu2>100000</mu2>
    <kp>100000000.0</kp>
    <kd>1.0</kd>
  </gazebo>

  <gazebo reference="Arm_L5_link">
    <implicitSpringDamper>1</implicitSpringDamper>
    <mu1>100000</mu1>
    <mu2>100000</mu2>
    <kp>100000000.0</kp>
    <kd>1.0</kd>
  </gazebo>

  <gazebo reference="Arm_L6_link">
    <implicitSpringDamper>1</implicitSpringDamper>
    <mu1>100000</mu1>
    <mu2>100000</mu2>
    <kp>100000000.0</kp>
    <kd>1.0</kd>
  </gazebo>


</robot>
